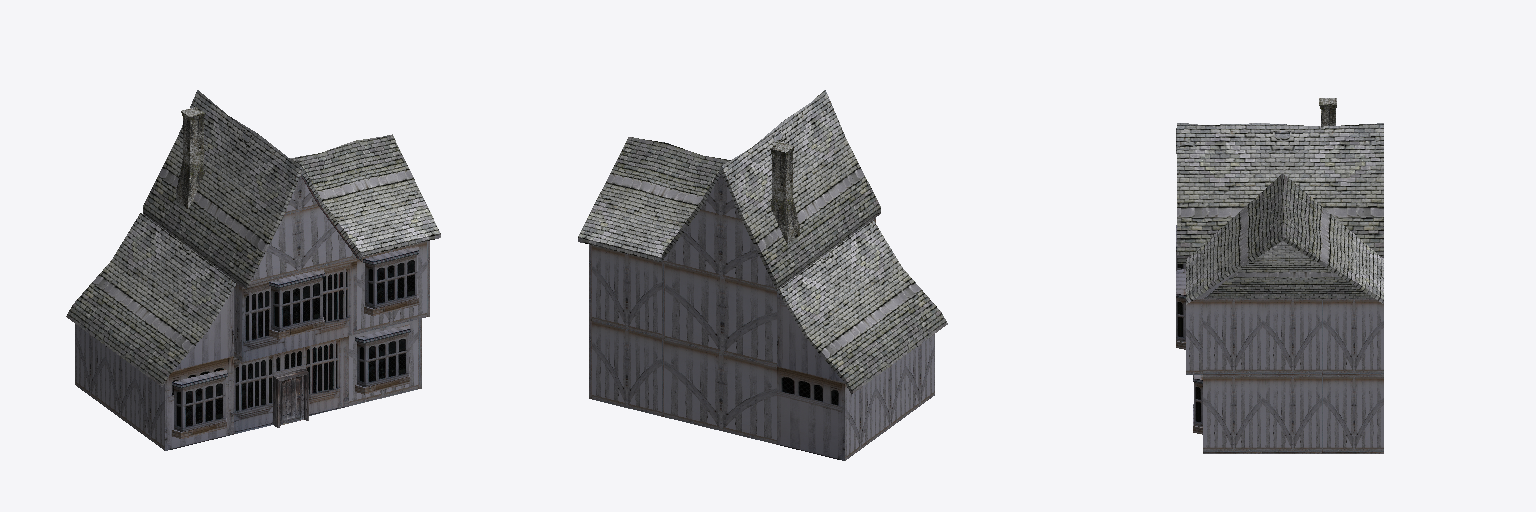
3 views of the same model, side by side, from view 1: azimuth 30°, elevation 25°; view 2: azimuth 150°, elevation 25°; view 3: azimuth 270°, elevation 25° (orthographic).
Parts seen in each view (by area): view 1: Group3_Form7, Group3_Form8, Group3_Form9, Form6; view 2: Group3_Form7, Group3_Form9; view 3: Group3_Form7, Group3_Form8.
Boxes of the visible parts, box(x1,y1,x2,y2) form: Group3_Form7: box(66, 90, 440, 450); Group3_Form8: box(172, 246, 418, 438); Group3_Form9: box(176, 107, 205, 208); Form6: box(273, 369, 308, 427); Group3_Form7: box(578, 90, 947, 460); Group3_Form9: box(770, 142, 799, 243); Group3_Form7: box(1176, 123, 1383, 453); Group3_Form8: box(1176, 225, 1202, 434).
Size of the model in its own units: 452 by 425 by 297.
Materials: 1 (1 with a texture image).